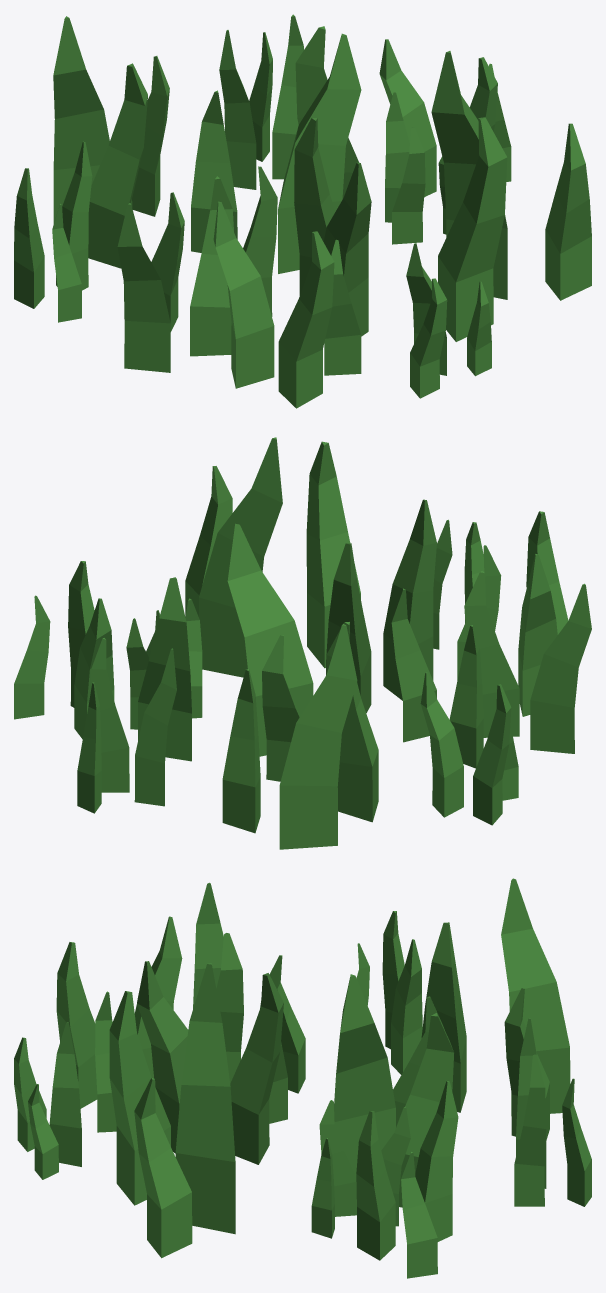
File: Grass group.fbx
3 views of the same model, one above another, from view 1: azimuth 30°, elevation 25°; view 2: azimuth 150°, elevation 25°; view 3: azimuth 270°, elevation 25° (orthographic). The views are drawn at different scales.
Visible parts, largest first — view 1: Grass group; view 2: Grass group; view 3: Grass group.
Boxes of the visible parts, box(x1,y1,x2,y2) form: Grass group: box(14, 14, 591, 408); Grass group: box(14, 437, 591, 849); Grass group: box(14, 878, 591, 1278).
Size of the model in its own units: 363 by 171 by 373.
